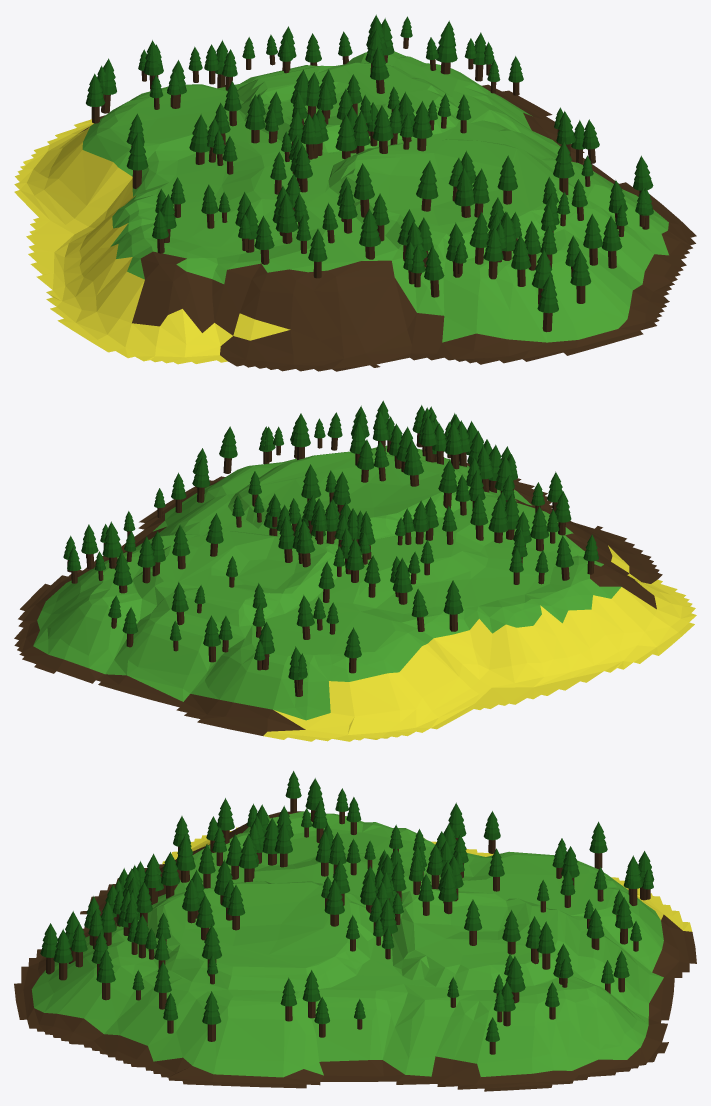
File: Island2.glb
3 renders of one model, top to bottom at view 1: azimuth 30°, elevation 25°; view 2: azimuth 150°, elevation 25°; view 3: azimuth 270°, elevation 25°, orthographic. The views are drawn at different scales.
Visible parts, largest first — view 1: Forest; view 2: Forest; view 3: Forest.
Boxes of the visible parts, x1,y1,x2,y2 form: Forest: (14, 14, 696, 371); Forest: (14, 400, 696, 741); Forest: (14, 771, 696, 1091).
Size of the model in its own units: 5.47 by 1.15 by 5.92.
